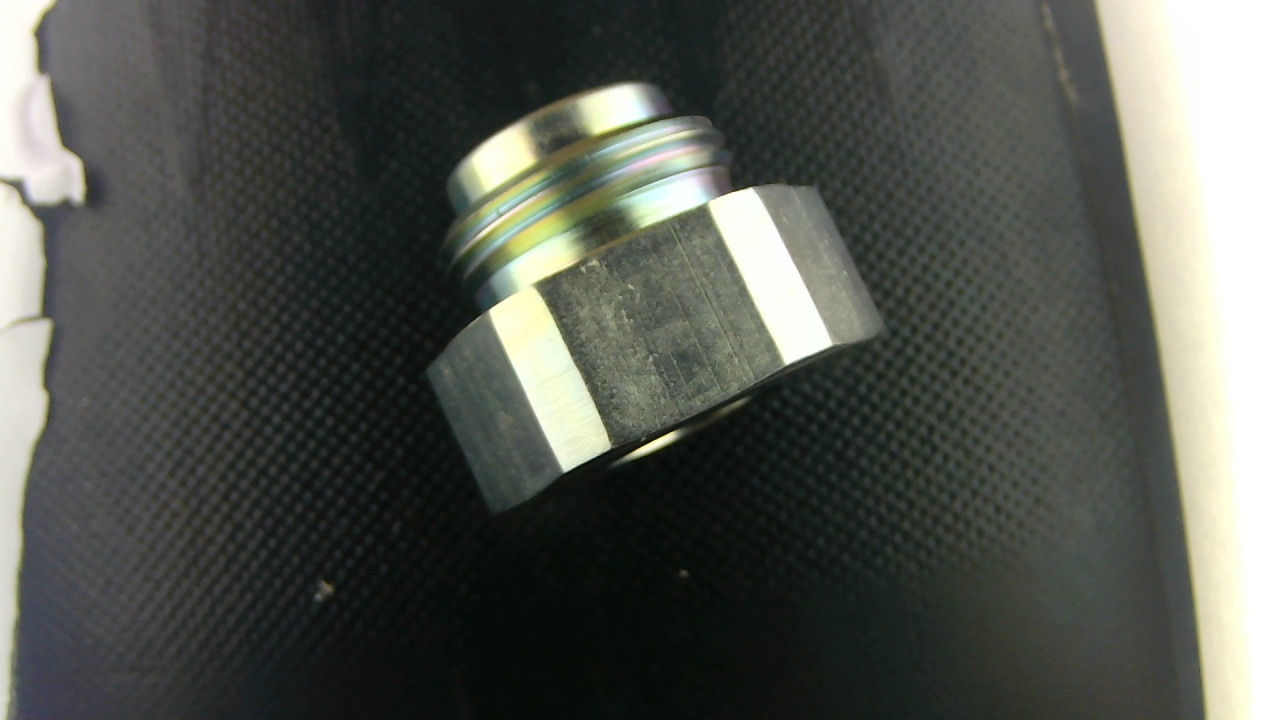Capnut_Okay: (428, 82, 882, 510)
